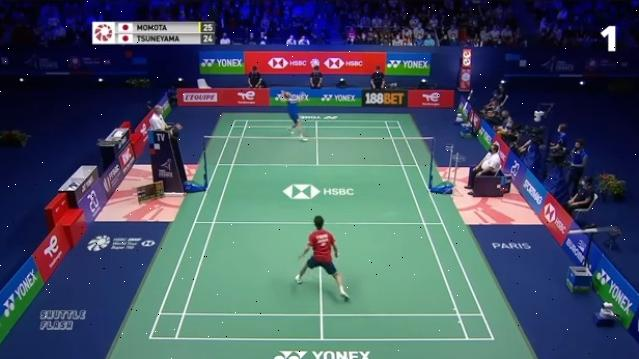Shuttlecock: (262, 36, 272, 40)
